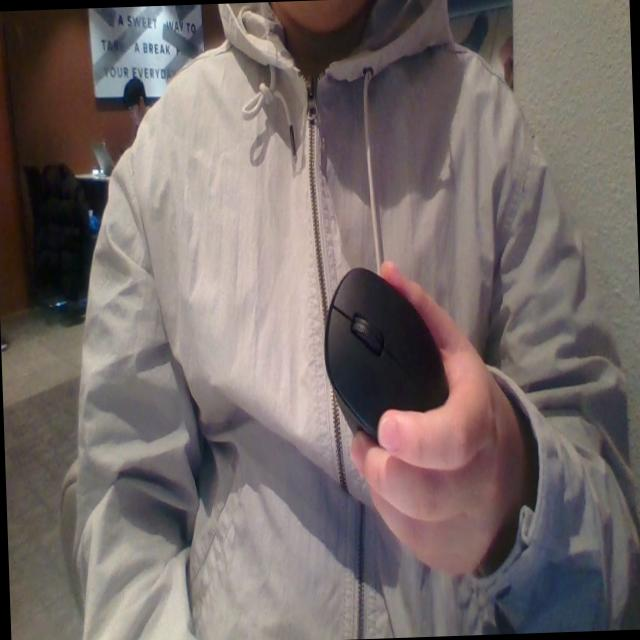grab_mouse: (312, 243, 519, 592)
mouse: (326, 258, 457, 442)
